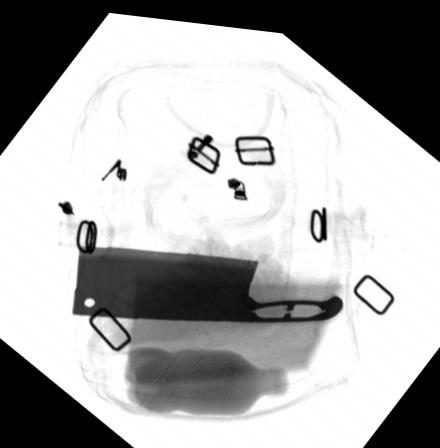Knife: (71, 241, 344, 316)
